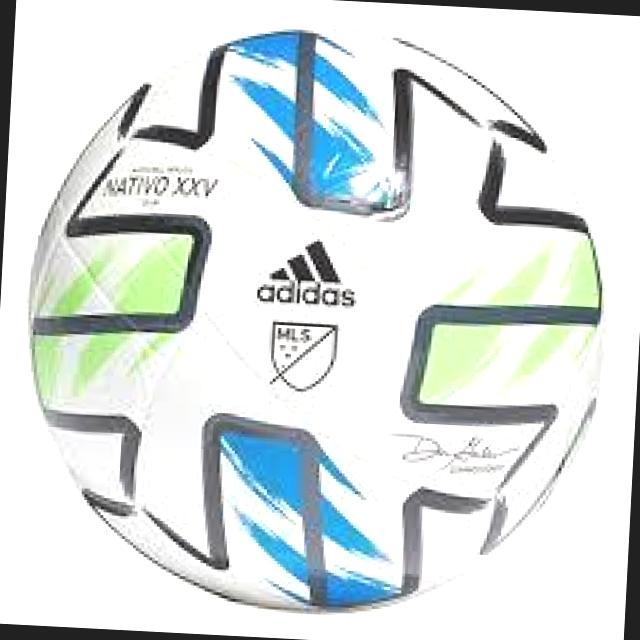Soccer Ball: (8, 14, 626, 636)
